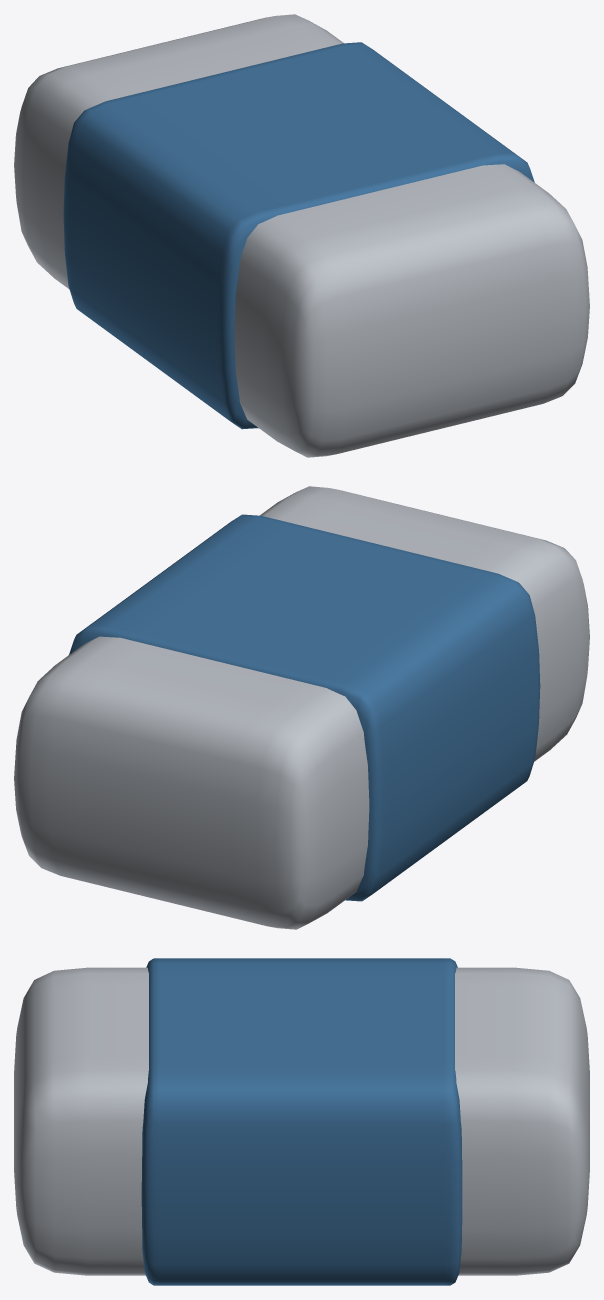
The model's file is Rubber_fbx.fbx.
3 renders of one model, top to bottom at view 1: azimuth 30°, elevation 25°; view 2: azimuth 150°, elevation 25°; view 3: azimuth 270°, elevation 25°, orthographic. The views are drawn at different scales.
Visible parts, largest first — view 1: pCube3; view 2: pCube3; view 3: pCube3.
Part boxes in pixels (x1,y1,x2,y2): pCube3: [14, 14, 589, 457]; pCube3: [14, 486, 589, 929]; pCube3: [14, 958, 589, 1285].
Size of the model in its own units: 2.16 by 1.38 by 3.52.
